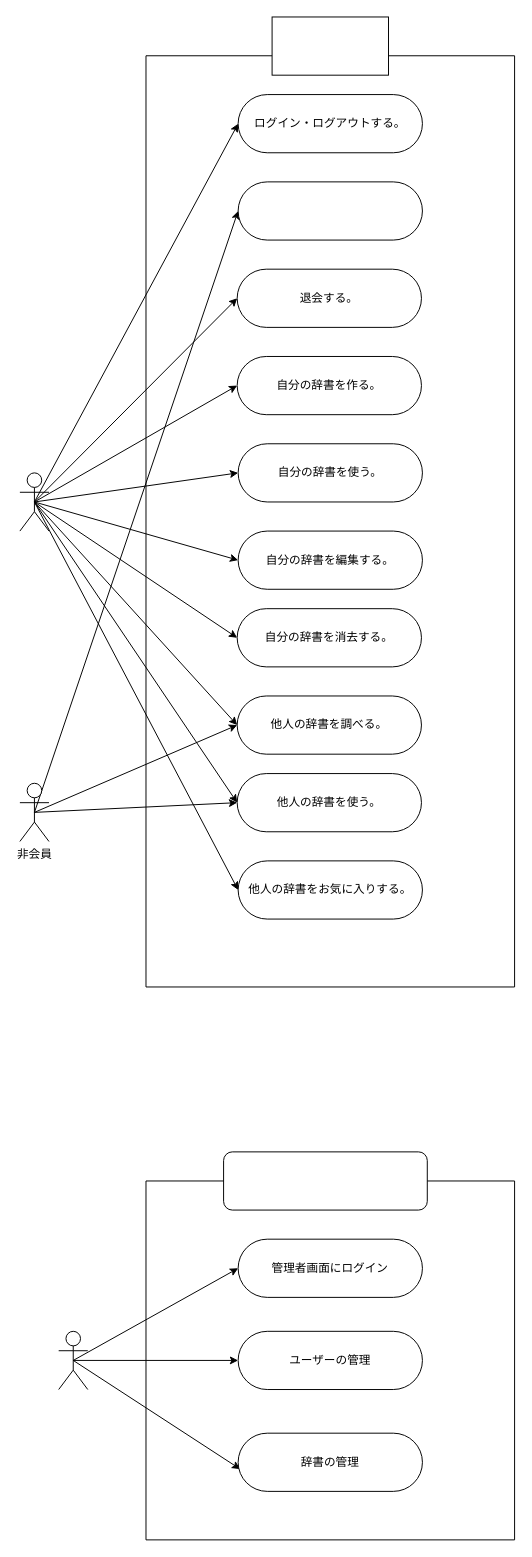
The diagram is 532 pixels wide and 1557 high, and some of its shapes have lost their labels. Each missing label, with the box of its shape:
ユーザー向け機能: (271, 16, 388, 75)
会員: (19, 472, 49, 531)
会員登録する。: (237, 181, 422, 240)
管理者: (58, 1330, 88, 1390)
管理者むけシステム: (223, 1151, 427, 1210)
